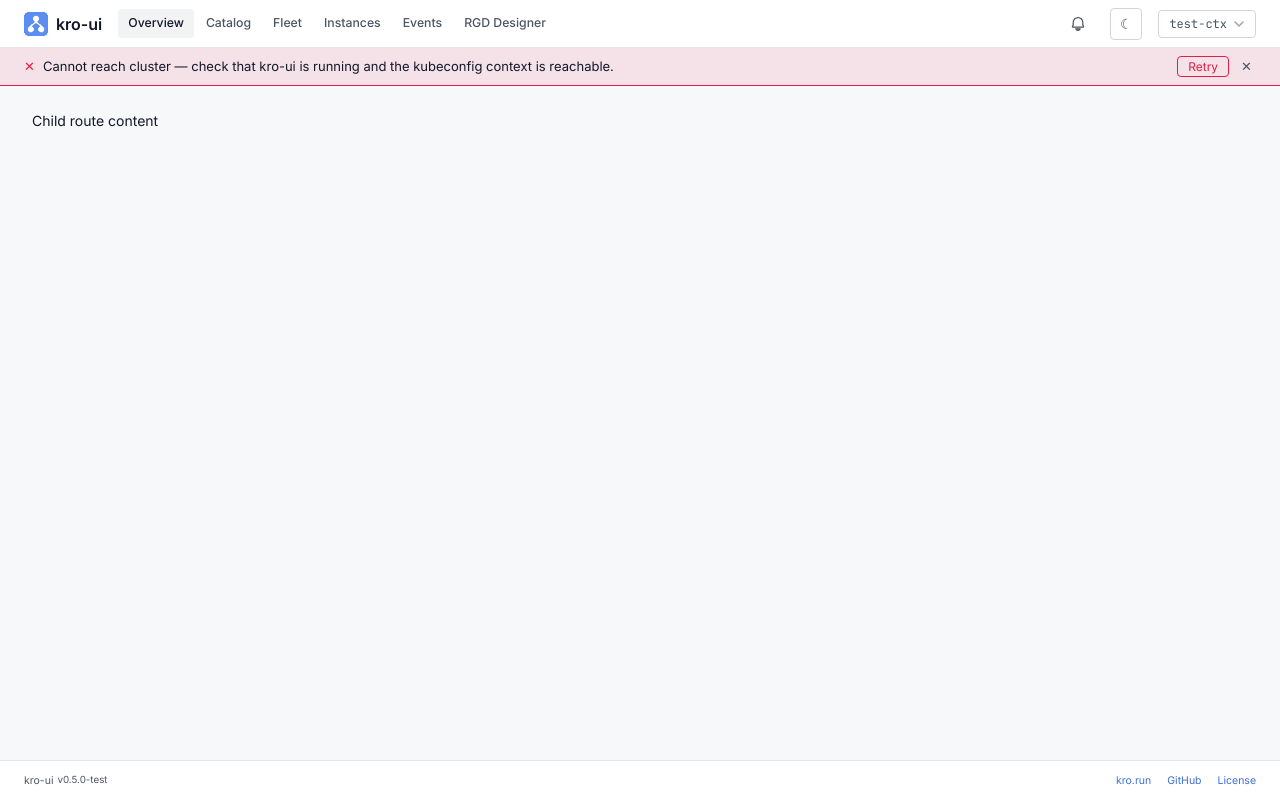
Test: Layout — cluster-unreachable banner › dismisses cluster-unreachable banner when dismiss button is clicked
Expected: the message with test id "cluster-unreachable-banner" is shown, x1=0 y1=48 x2=1279 y2=86
Click the button named "dismiss cluster unreachable".
click(1247, 66)  # box x1=1237 y1=60 x2=1256 y2=73
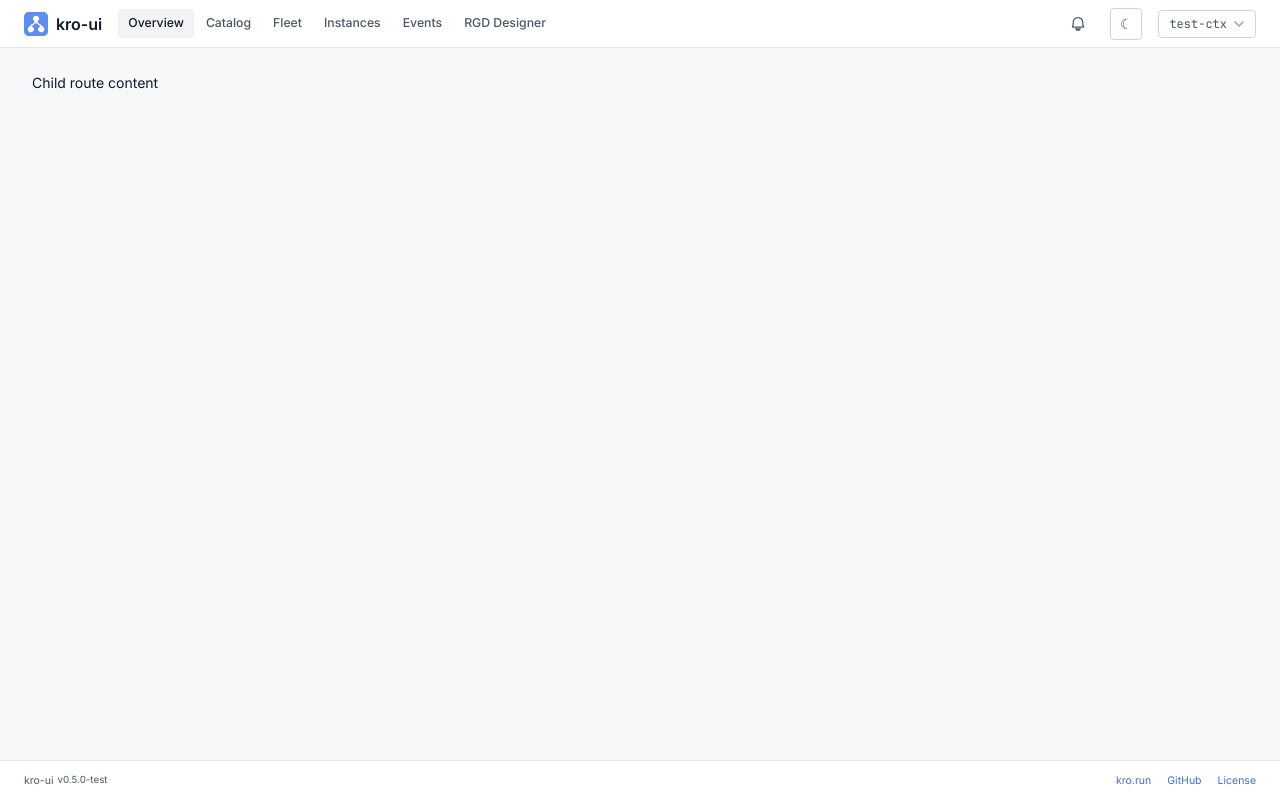
Result: the message with test id "cluster-unreachable-banner" is gone
